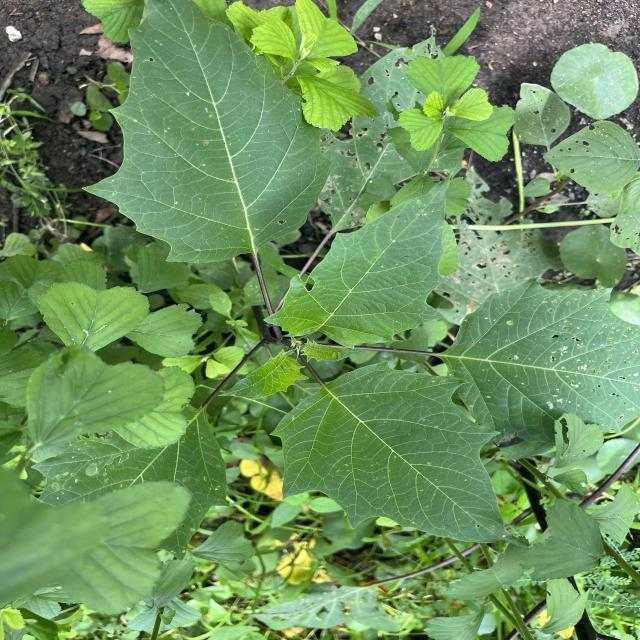Datura metal linn: (79, 1, 333, 266), (267, 359, 531, 551), (259, 166, 456, 352)
